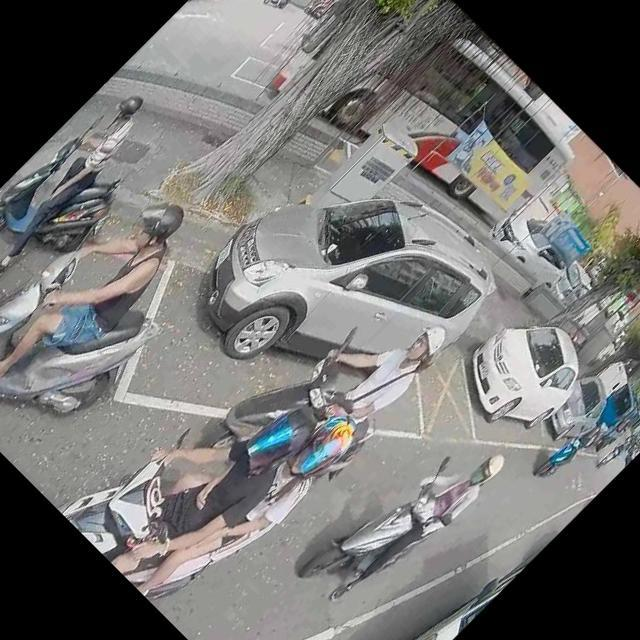person: (104, 362, 368, 626), (73, 344, 334, 606), (0, 170, 211, 422), (306, 410, 512, 616), (0, 82, 162, 276), (292, 280, 458, 446), (534, 418, 602, 484), (616, 436, 632, 452), (270, 0, 305, 7)
